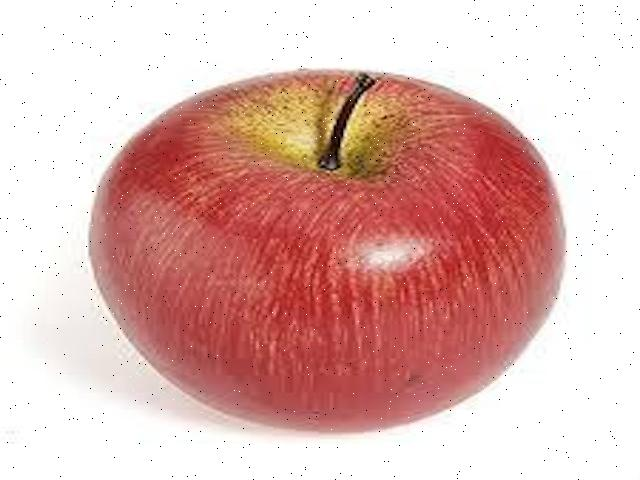apple: (78, 62, 570, 439)
